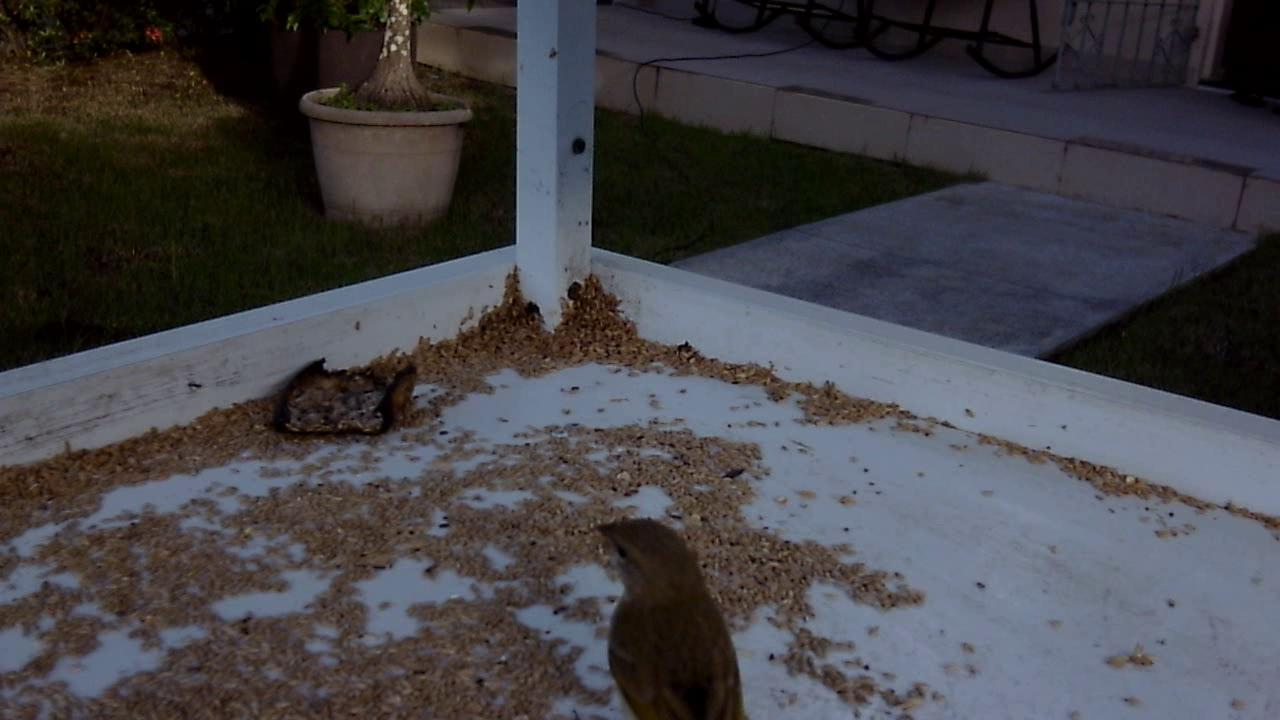canario_do_amazonas: (581, 497, 759, 718)
